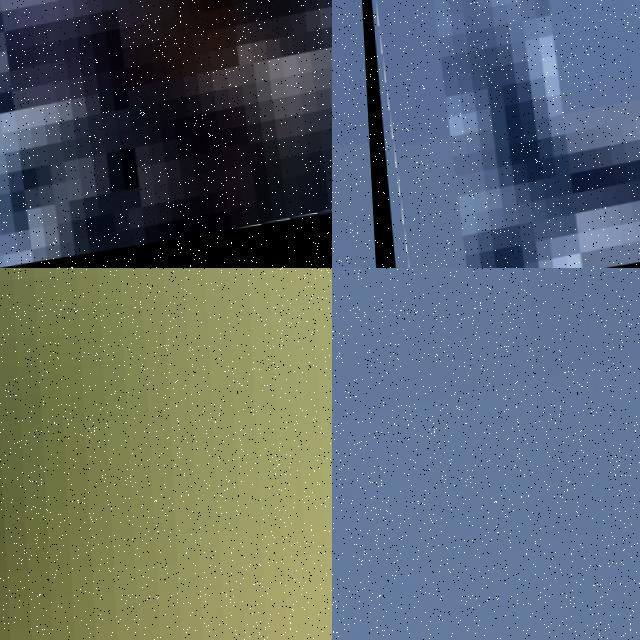drone: (332, 268, 640, 640), (0, 0, 332, 268), (348, 0, 640, 268)
